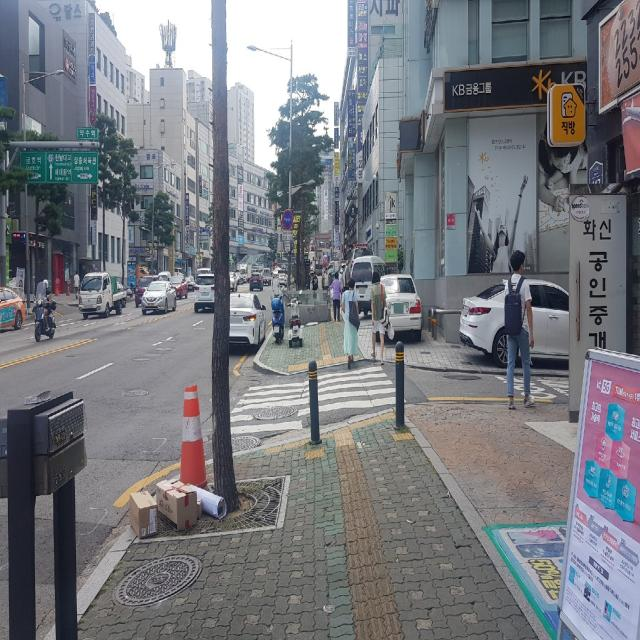횡단보도: (230, 366, 407, 435)
